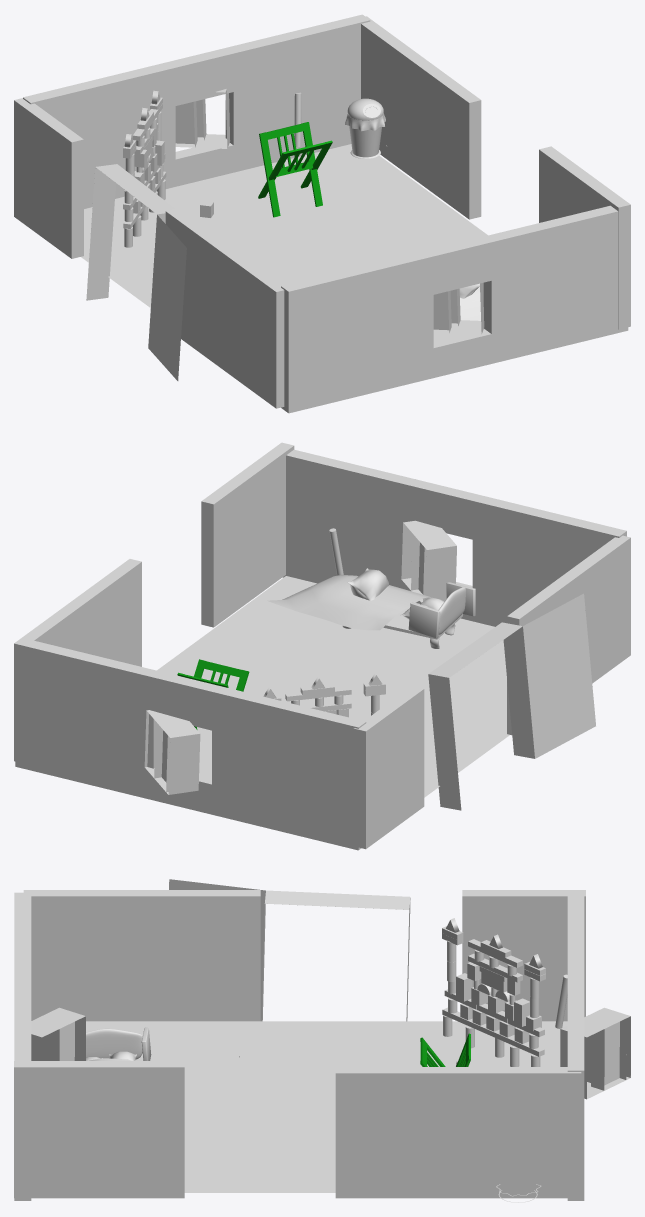
The picture shows the model from 3 angles, top to bottom: view 1: azimuth 30°, elevation 25°; view 2: azimuth 150°, elevation 25°; view 3: azimuth 270°, elevation 25°; orthographic projection. The views are drawn at different scales.
Parts seen in each view (by area): view 1: Rectangle002, Rectangle003, Plane002, Box051, Box049, Box050, Pivot001, Box052, SlidingWindow002, SlidingWindow001, Plane010, Cylinder087 (+4 smaller); view 2: Rectangle003, Rectangle002, Plane002, Pivot001, Box052, Box050, Box049, Box051, Plane009, SlidingWindow001, SlidingWindow002, ChamferBox036 (+2 smaller); view 3: Plane002, Box051, Box049, Box052, Box050, SlidingWindow002, Rectangle003, Pivot001, Rectangle002, SlidingWindow001, Plane010, Box005.
Part boxes in pixels (box(x1,y1,x2,y2)): Rectangle002: box(281, 205, 628, 413); Rectangle003: box(23, 14, 370, 208); Plane002: box(81, 144, 487, 340); Box051: box(361, 16, 481, 219); Box049: box(165, 208, 284, 408); Box050: box(14, 98, 83, 258); Pivot001: box(86, 164, 186, 380); Box052: box(539, 146, 630, 329); SlidingWindow002: box(175, 89, 230, 148); SlidingWindow001: box(433, 282, 484, 334); Plane010: box(85, 196, 200, 248); Cylinder087: box(349, 117, 381, 157); Rectangle003: box(15, 638, 366, 850); Rectangle002: box(282, 449, 626, 626); Plane002: box(157, 576, 509, 797); Pivot001: box(428, 593, 595, 810); Box052: box(201, 442, 294, 627); Box050: box(353, 686, 424, 849); Box049: box(507, 535, 630, 735); Box051: box(14, 559, 141, 761); Plane009: box(267, 574, 431, 630); SlidingWindow001: box(401, 520, 456, 602); SlidingWindow002: box(144, 710, 200, 794); ChamferBox036: box(408, 602, 440, 638); Plane002: box(86, 1021, 567, 1192); Box051: box(335, 1067, 581, 1198); Box049: box(23, 890, 260, 1021); Box052: box(14, 1061, 184, 1198); Box050: box(462, 890, 585, 1021); SlidingWindow002: box(560, 1007, 630, 1099); Rectangle003: box(567, 892, 584, 1200); Pivot001: box(169, 879, 410, 1021); Rectangle002: box(14, 892, 31, 1200); SlidingWindow001: box(31, 1007, 85, 1060); Plane010: box(428, 1032, 560, 1066); Box005: box(86, 1028, 142, 1059).
Size of the model in its own units: 16141 by 5468 by 19807.
